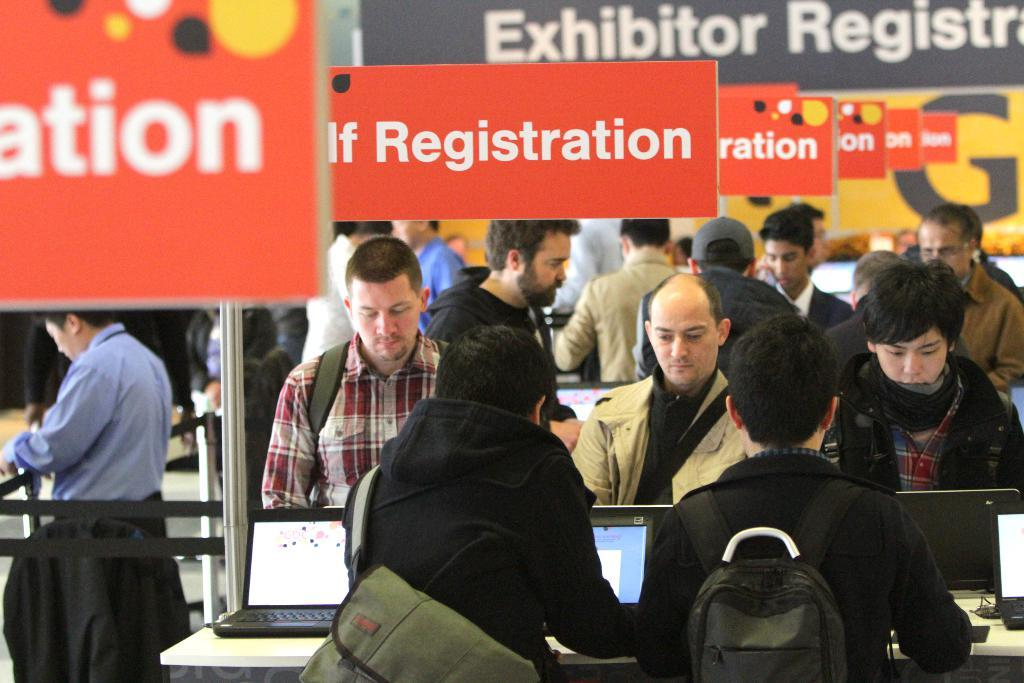Luggage-and-bags: (299, 473, 572, 682), (669, 481, 861, 682), (834, 362, 1010, 497), (303, 338, 454, 440), (636, 383, 729, 516)
